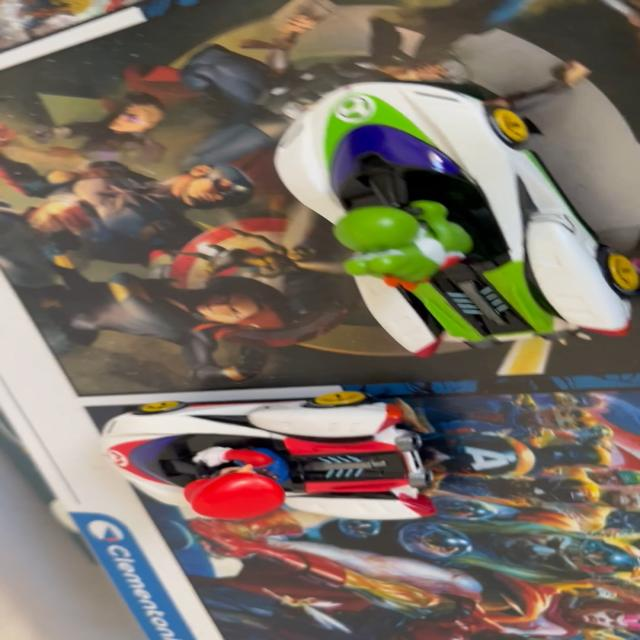mario: (77, 377, 475, 535)
yoshi: (247, 56, 640, 388)
